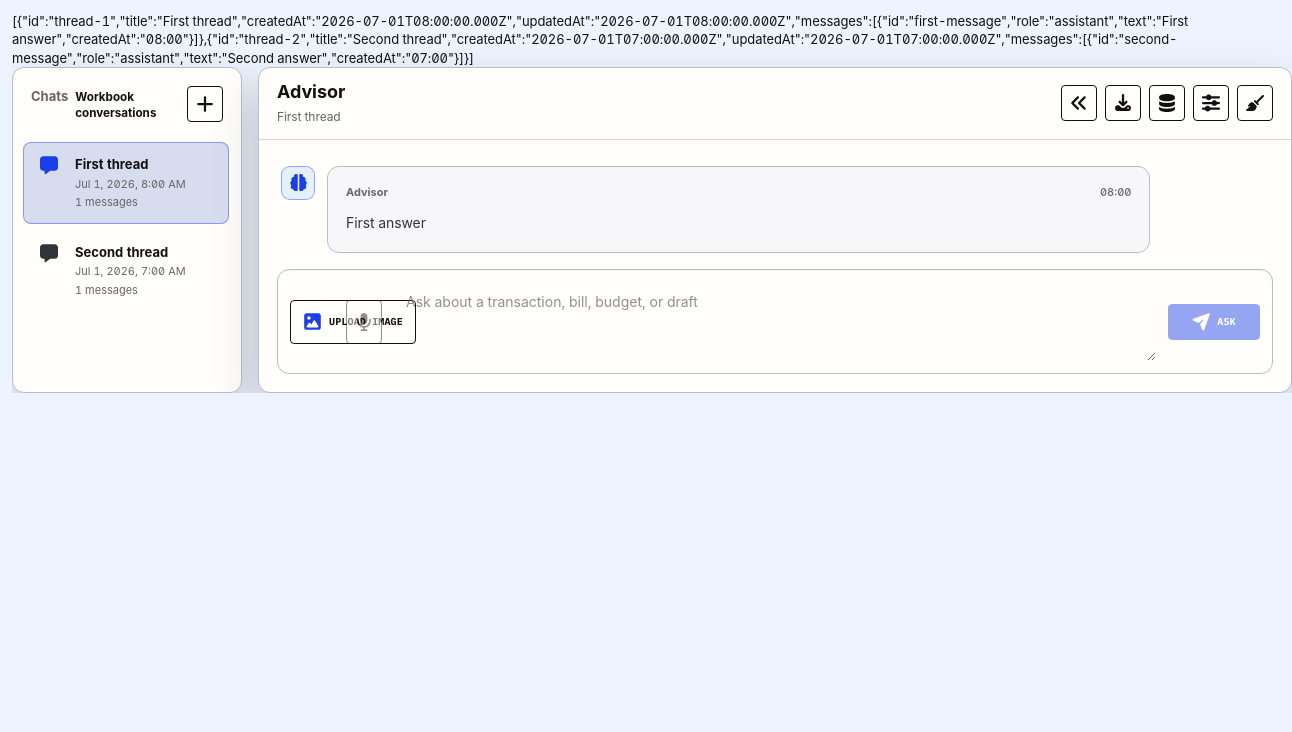
Scenario: advisor chat interactions › falls back safely after model failure
This screenshot has width=1292, height=732.
Type "Show a summary" into the text box named "Ask Advisor".
click(779, 322); type("Show a summary")  # box [402,282,1156,361]
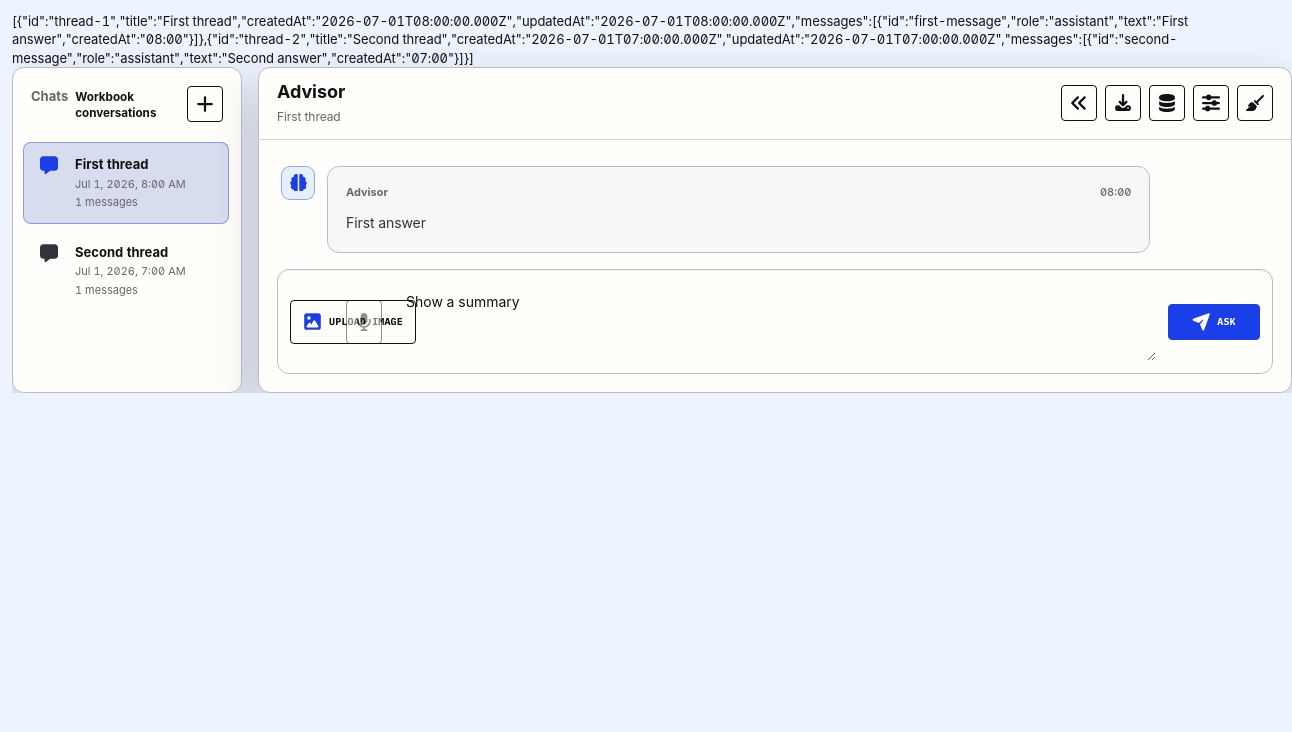
Click the button "Ask".
click(1214, 322)  # box [1168,304,1260,340]
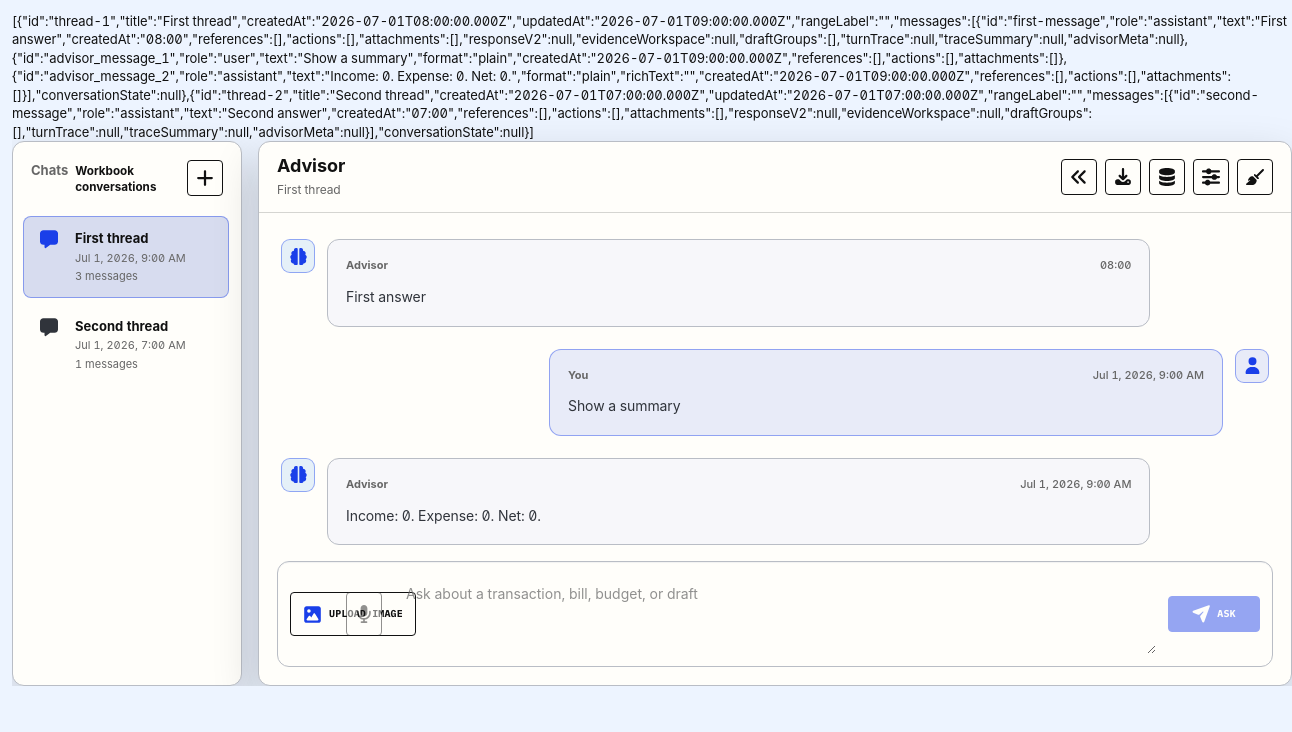
expect the element with class "advisor-message-list" is shown: met, box [259,213,1291,561]
expect the text "Income: 0. Expense: 0. Net: 0." is shown: met, box [346,507,541,524]
